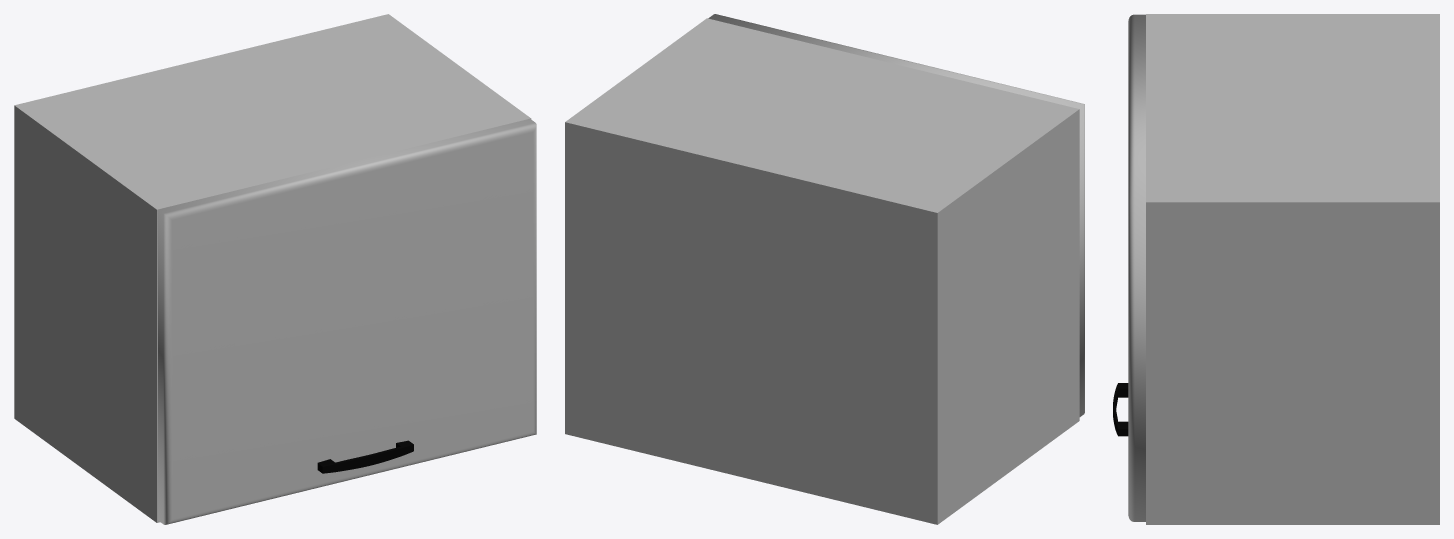
3 renders of one model, left to right at view 1: azimuth 30°, elevation 25°; view 2: azimuth 150°, elevation 25°; view 3: azimuth 270°, elevation 25°, orthographic. The views are drawn at different scales.
Parts seen in each view (by area): view 1: Box011, Box001, Obj3d66-503491-2-356; view 2: Box001, Box011; view 3: Box001, Box011, Obj3d66-503491-2-356.
Part boxes in pixels (x1,y1,x2,y2): Box011: (158,118,536,524); Box001: (14,14,531,522); Obj3d66-503491-2-356: (317,440,413,473); Box001: (565,18,1079,524); Box011: (708,14,1084,416); Box001: (1146,14,1439,524); Box011: (1128,14,1145,521); Obj3d66-503491-2-356: (1113,383,1128,436).
Size of the model in its own units: 0.5 by 0.4 by 0.3671.
Materials: 2 (1 with a texture image).
